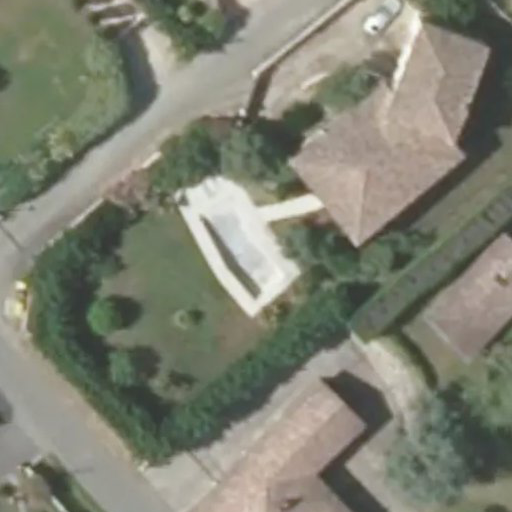pool: (209, 210, 301, 276)
